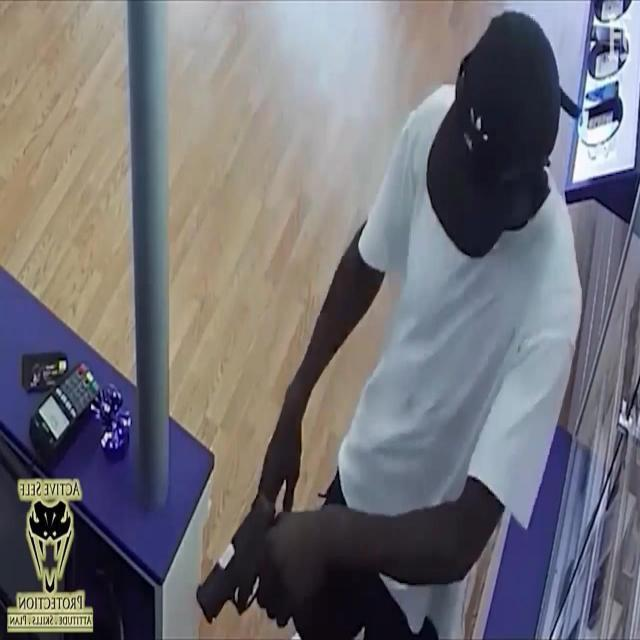pistol: (198, 493, 308, 626)
